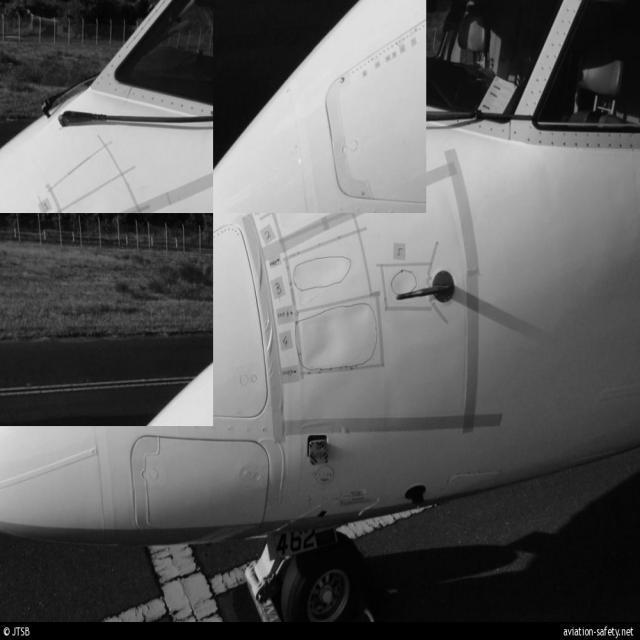dent: (306, 303, 368, 363)
